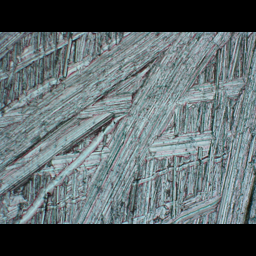d: (1, 32, 256, 223)
